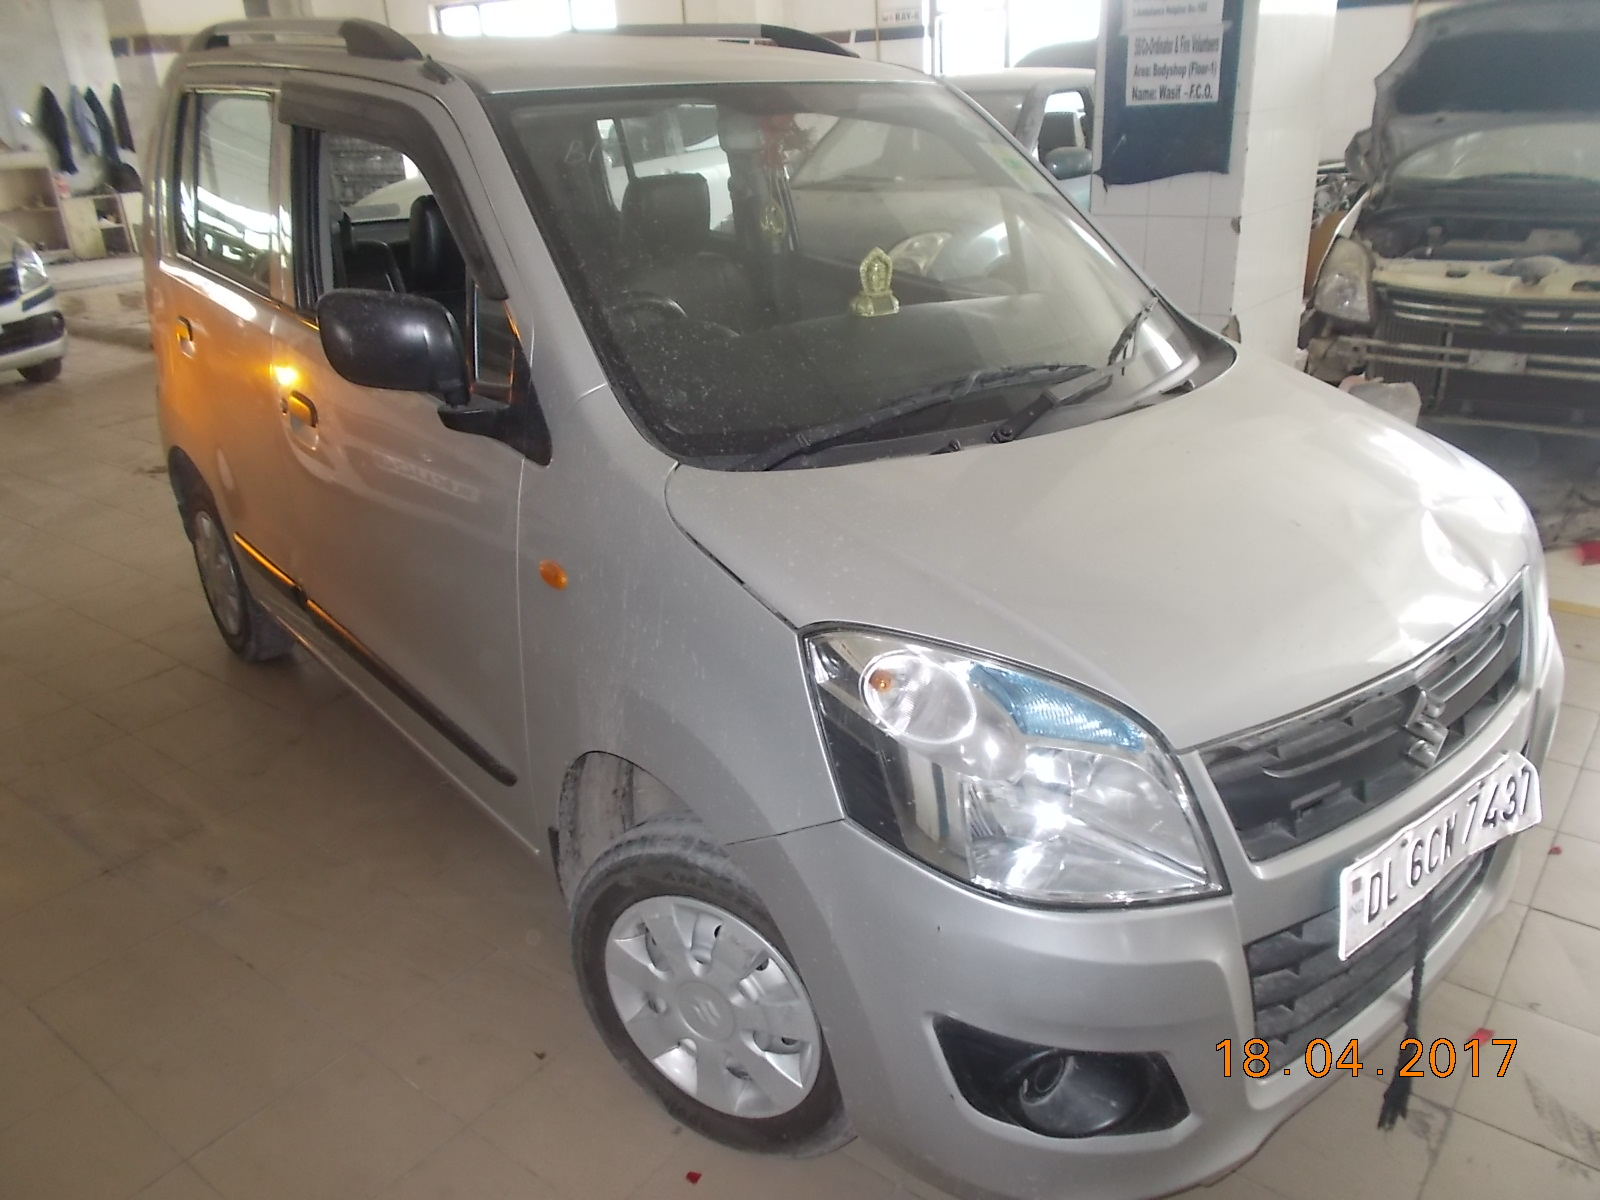Dent: (1406, 482, 1492, 584)
